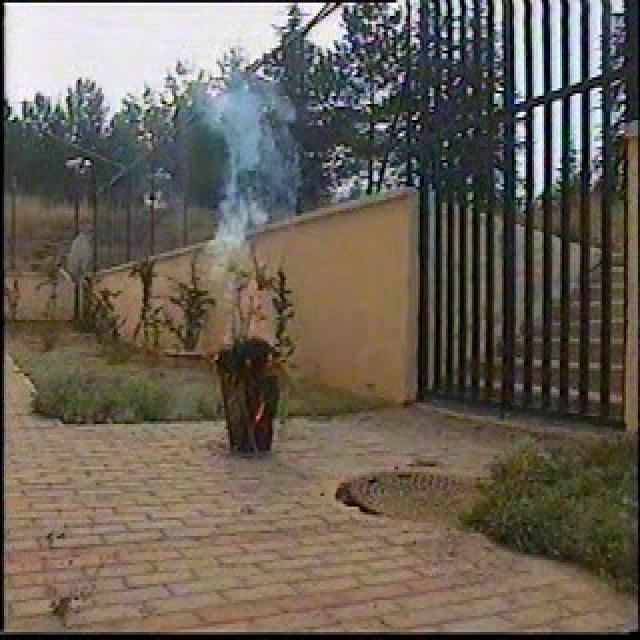smoke: (211, 97, 272, 182)
